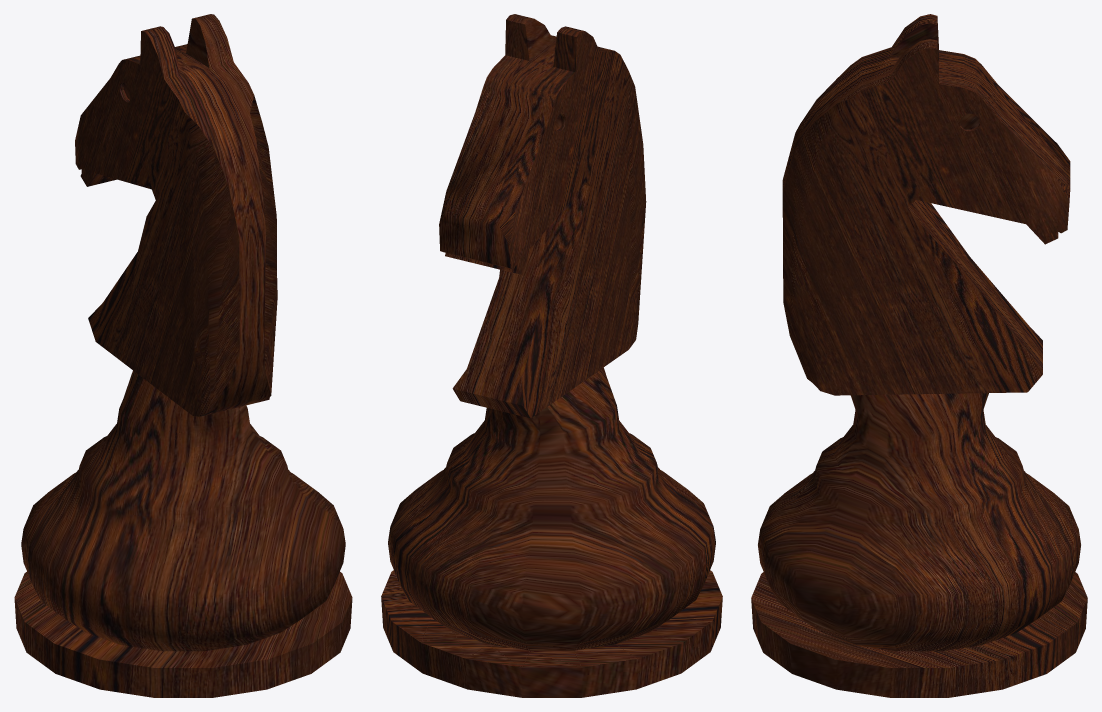
Rendered from black_knight.obj.
3 views of the same model, side by side, from view 1: azimuth 30°, elevation 25°; view 2: azimuth 150°, elevation 25°; view 3: azimuth 270°, elevation 25° (orthographic).
Visible parts, largest first — view 1: knight_B1_Material_0.001; view 2: knight_B1_Material_0.001; view 3: knight_B1_Material_0.001.
Boxes of the visible parts, x1,y1,x2,y2 form: knight_B1_Material_0.001: (14, 14, 352, 697); knight_B1_Material_0.001: (381, 14, 722, 697); knight_B1_Material_0.001: (751, 14, 1087, 697).
Bounding box in the file's own units: 2.63 × 5.31 × 2.67.
